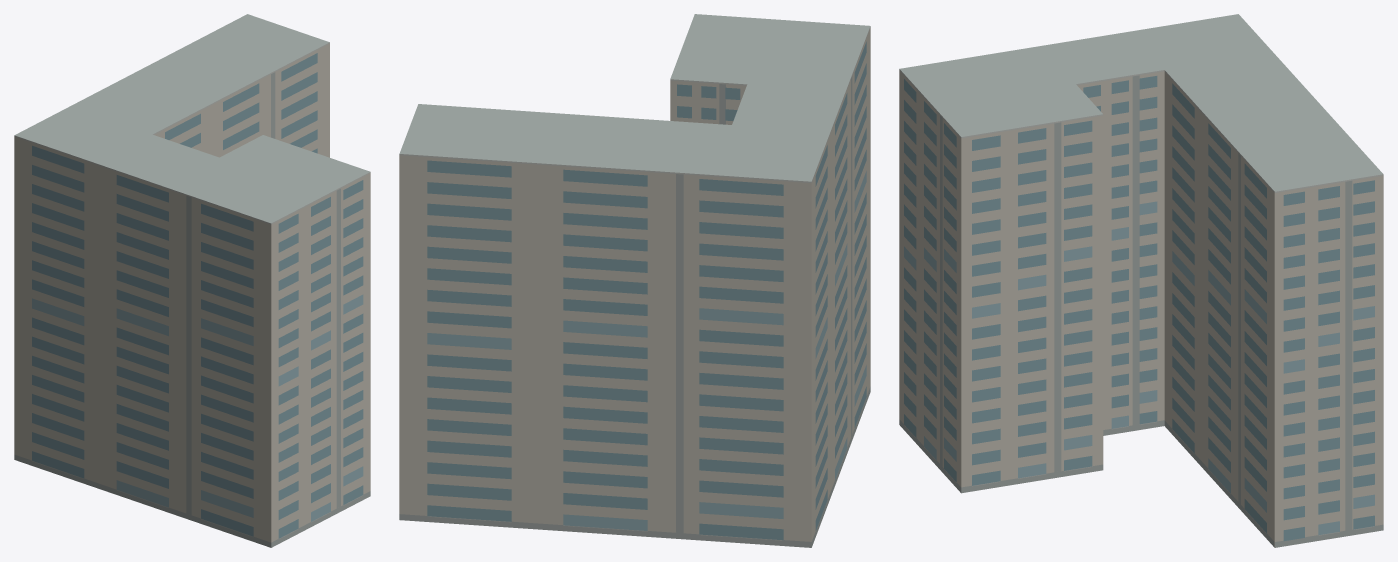
File: residential-e58e7cf7-4d0b-4faf-835e-d063f83c1fe2.glb
3 renders of one model, left to right at view 1: azimuth 30°, elevation 25°; view 2: azimuth 150°, elevation 25°; view 3: azimuth 270°, elevation 25°, orthographic. The views are drawn at different scales.
Visible parts, largest first — view 1: residential-e58e7cf7-4d0b-4faf-835e-d063f83c1fe2.tmp; view 2: residential-e58e7cf7-4d0b-4faf-835e-d063f83c1fe2.tmp; view 3: residential-e58e7cf7-4d0b-4faf-835e-d063f83c1fe2.tmp.
Boxes of the visible parts, <box> form: residential-e58e7cf7-4d0b-4faf-835e-d063f83c1fe2.tmp: <box>14,14,370,547</box>; residential-e58e7cf7-4d0b-4faf-835e-d063f83c1fe2.tmp: <box>399,14,870,547</box>; residential-e58e7cf7-4d0b-4faf-835e-d063f83c1fe2.tmp: <box>899,14,1383,547</box>.
Size of the model in its own units: 67.46 by 63 by 77.62.
